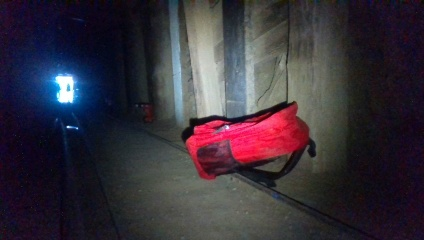backpack: (183, 100, 309, 180)
drill: (129, 100, 157, 128)
